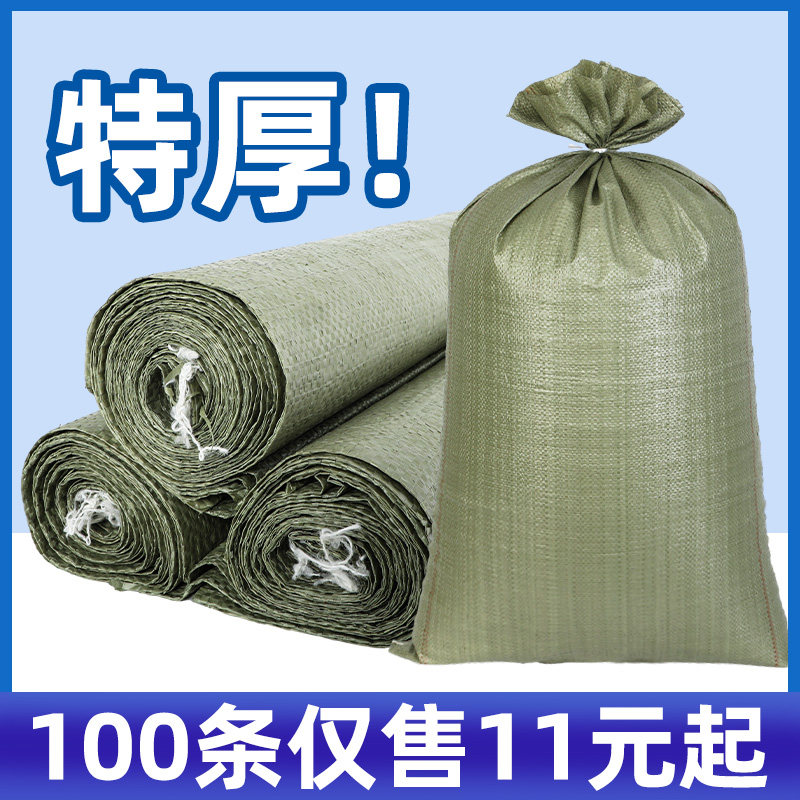Parcel: (412, 60, 786, 665)
